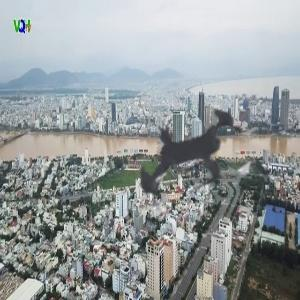drone: (93, 51, 298, 256)
